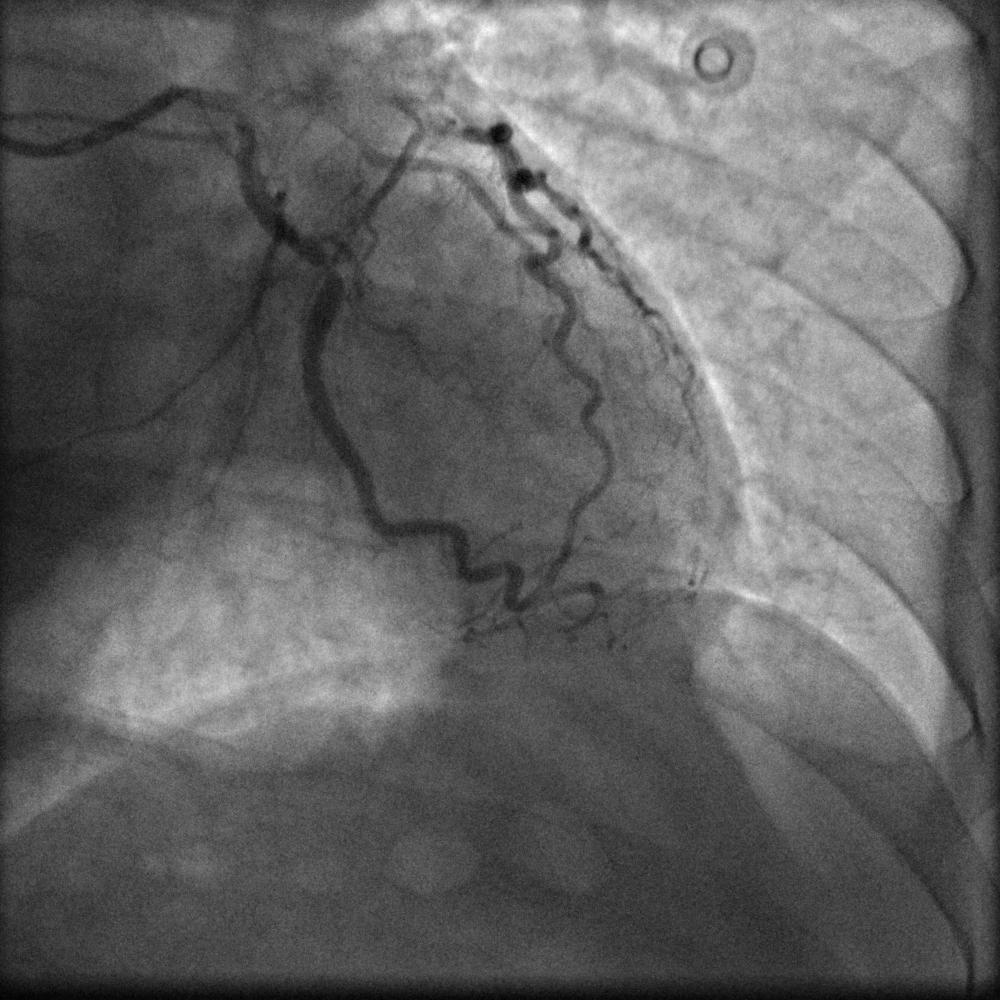Stenosis: (315, 242, 345, 289)
